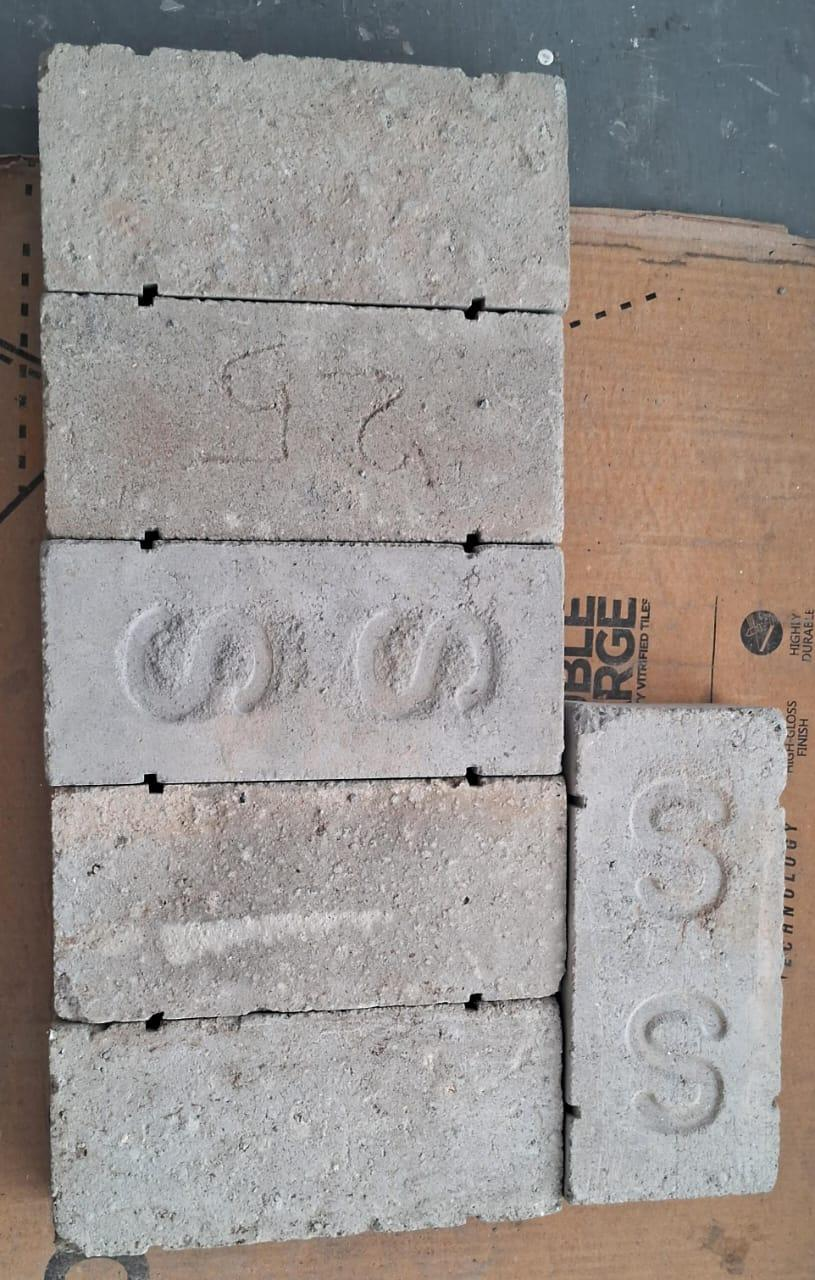Bricks: (41, 290, 564, 549), (43, 50, 561, 300), (52, 779, 568, 1026), (41, 540, 565, 783), (557, 701, 792, 1212), (53, 1028, 565, 1214)
